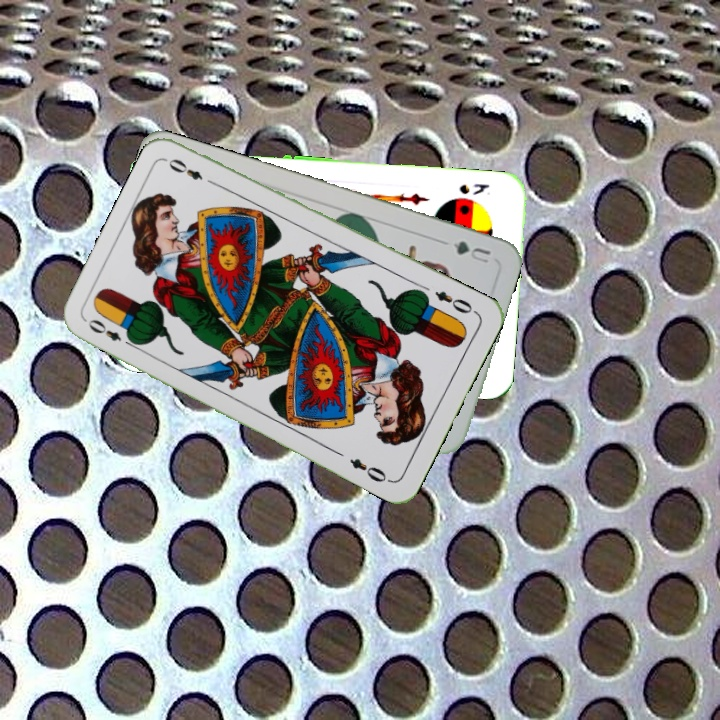EO: (84, 315, 138, 350), (430, 287, 480, 316)
GU: (448, 236, 493, 266)
SK: (455, 179, 492, 197)
